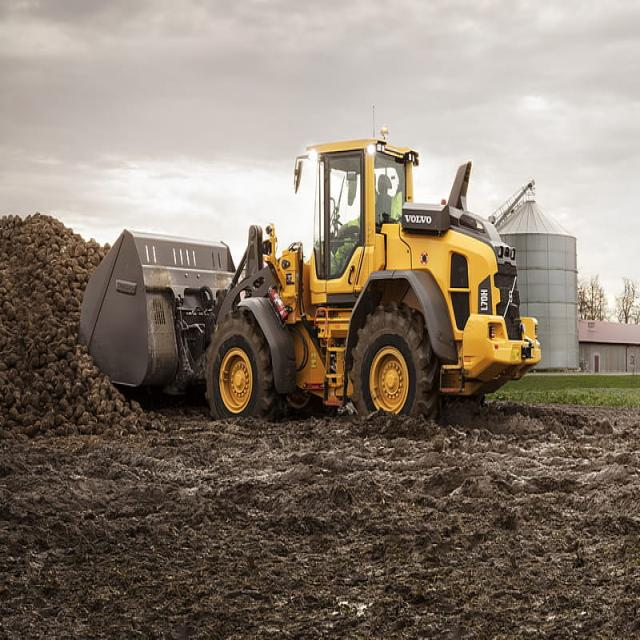buldozerpayloadergrader: (76, 130, 546, 442)
